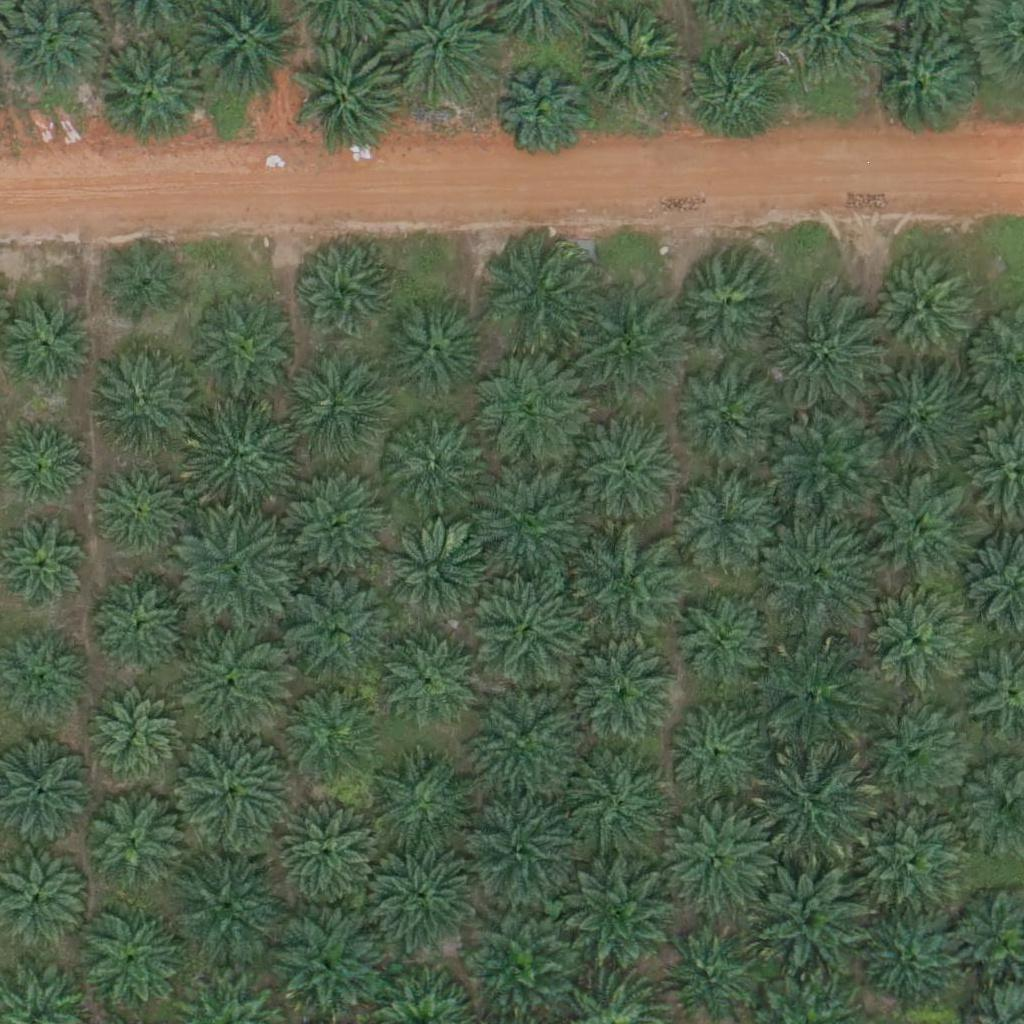Kelapa_Sawit: (868, 475, 981, 589), (755, 868, 868, 982), (561, 636, 674, 750), (97, 33, 210, 147), (848, 807, 961, 920), (859, 364, 972, 477), (773, 410, 886, 523), (753, 514, 866, 627), (671, 357, 784, 470), (564, 293, 677, 406), (565, 414, 678, 527), (558, 754, 671, 867), (478, 242, 591, 355), (471, 359, 584, 472), (475, 574, 588, 687), (468, 676, 581, 789), (363, 758, 476, 871), (178, 519, 291, 632), (173, 626, 286, 739), (178, 730, 291, 843), (166, 856, 279, 969), (79, 346, 192, 459), (866, 583, 978, 697), (669, 247, 781, 361), (561, 861, 673, 975), (466, 785, 578, 899), (184, 291, 296, 405), (859, 695, 971, 808), (767, 298, 879, 411), (760, 638, 872, 751), (761, 751, 873, 864), (662, 804, 774, 917), (580, 526, 692, 639), (473, 470, 585, 583), (384, 521, 496, 634), (369, 834, 481, 947), (283, 570, 395, 683), (183, 406, 295, 519), (866, 26, 978, 139), (578, 10, 690, 123), (293, 43, 405, 156), (862, 916, 962, 1017), (869, 258, 969, 359), (664, 696, 764, 797), (677, 480, 777, 581), (387, 294, 487, 395), (386, 423, 486, 524), (379, 632, 479, 733), (278, 684, 378, 785), (288, 471, 388, 572), (84, 910, 184, 1011), (84, 786, 184, 887), (84, 681, 184, 782), (93, 576, 193, 677), (683, 48, 783, 149), (671, 595, 771, 695), (465, 912, 565, 1012), (278, 803, 378, 903), (281, 358, 381, 458), (292, 241, 392, 341), (101, 237, 189, 325), (94, 465, 182, 553), (496, 72, 583, 160)
